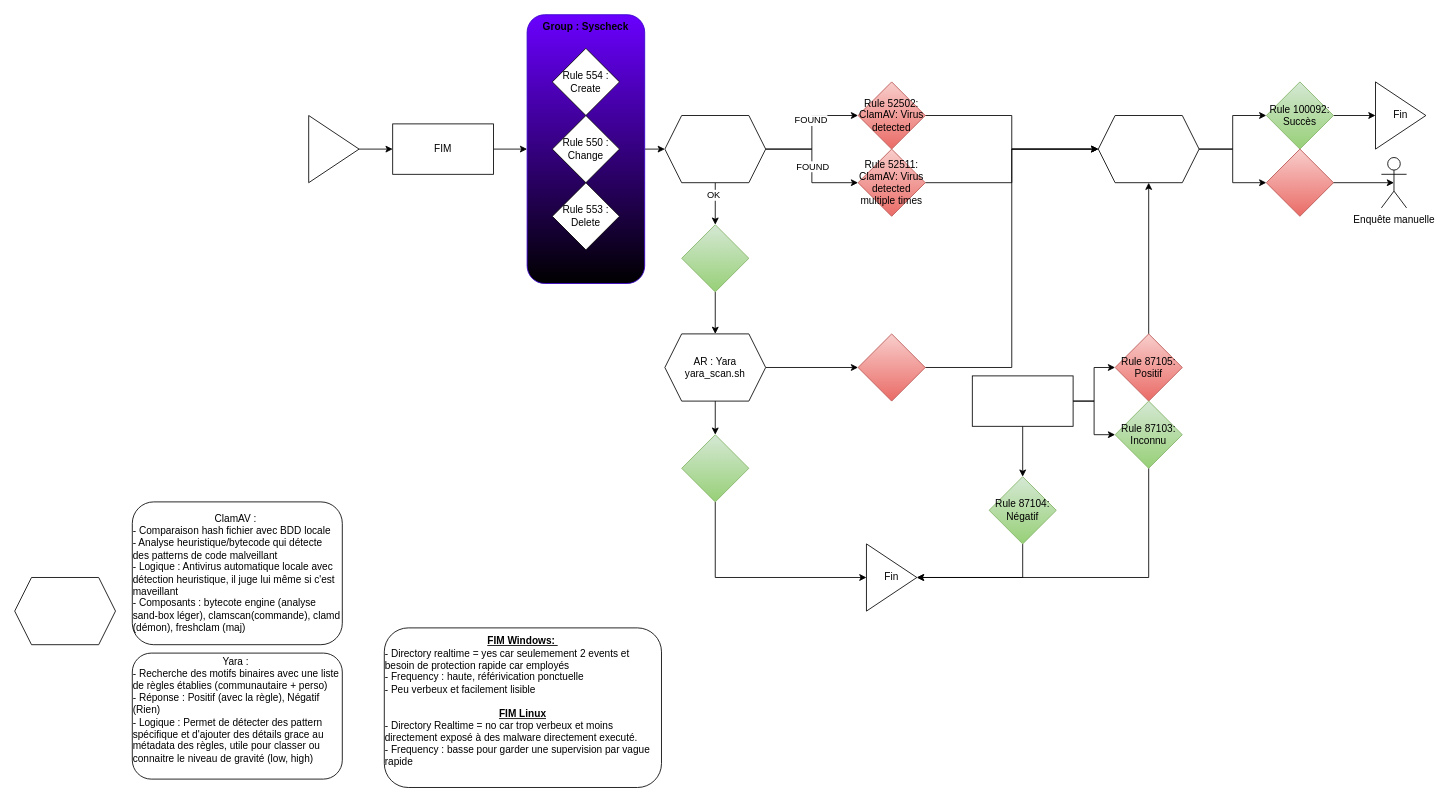
This 1449x802 diagram has some shape labels left out. Here are the shapes that lost their labels. From the top down, the centre of each, then its label:
At point (333, 149): "Début".
At point (715, 149): "AR : ClamAV clamd_scan.sh".
At point (1148, 149): "AR : remove_threat.sh".
At point (1299, 182): "Rule 100093: Echec".
At point (715, 258): "Rule 52512: ClamAV: File scanned, no infection found".
At point (891, 367): "Rule 108001: Match HighConfidence".
At point (1022, 400): "VirusTotal API".
At point (715, 468): "Rule XX: Negative".
At point (65, 611): "Active response : Execution d'un script sur l'agent (local)".
